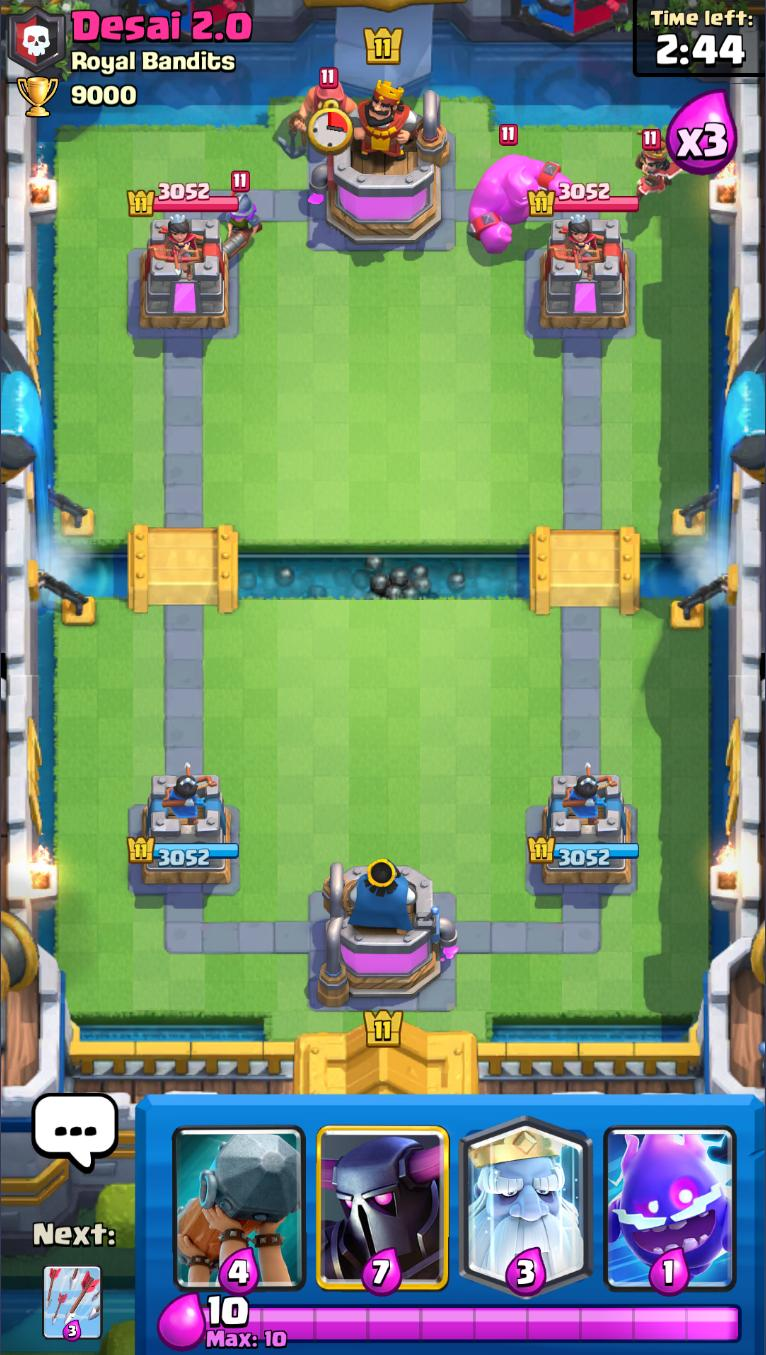ArrowNext: (42, 1264, 104, 1342)
BattleRamDeck: (167, 1095, 312, 1295)
ElectroSpiritDeck: (598, 1094, 743, 1296)
Elixir: (202, 1295, 743, 1351)
ElixirGolem: (466, 123, 572, 253)
EnemyTower: (536, 215, 633, 333), (136, 215, 231, 333)
FisherMan: (277, 66, 357, 160)
KingTower: (310, 77, 453, 248)
LittlePrince: (632, 125, 685, 206)
Musketeer: (219, 170, 262, 259)
MyKingTower: (316, 858, 459, 1009)
MyPrincessTower: (527, 770, 642, 890), (127, 770, 241, 888)
MyPrincessTowerHP: (127, 835, 240, 869), (526, 835, 640, 868)
PekkaDeck: (311, 1096, 455, 1297)
PrincessTower: (550, 214, 605, 276), (151, 215, 206, 275)
RoyaleGhostDeck: (455, 1096, 598, 1299)
TowerPrincessHP: (526, 182, 641, 219), (126, 182, 240, 219)
